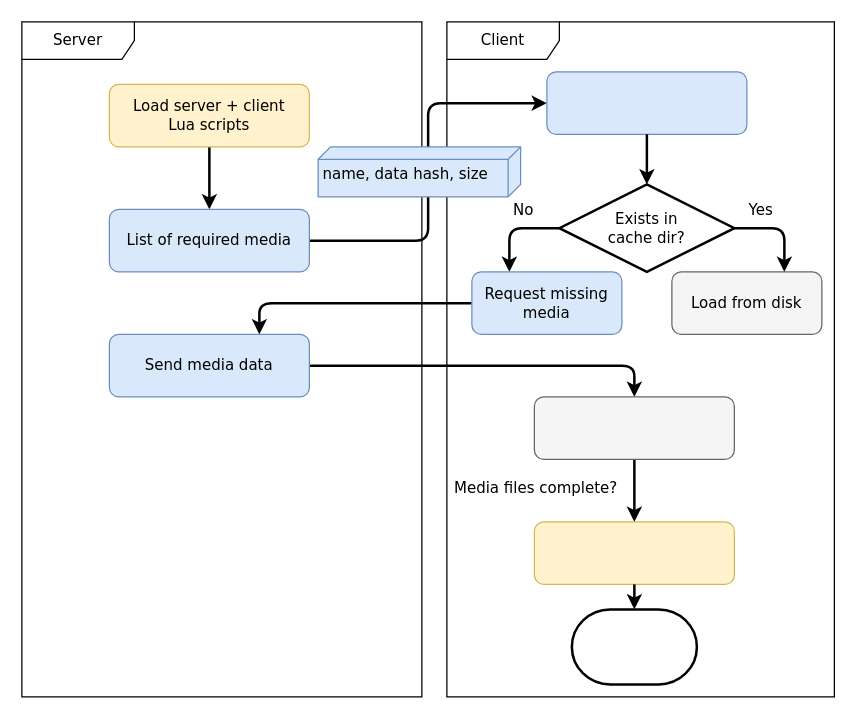
Image size: 856x719. Some labels were removed from this diagram. The box of each missing label's shape, as (x1, y1, x2, y2) in pixels:
Load client Lua scripts, finalize BlockManager: (533, 521, 734, 584)
Process Packet: (546, 71, 747, 134)
Ready to join world: (570, 608, 698, 685)
Save files to cache dir: (533, 396, 734, 459)
